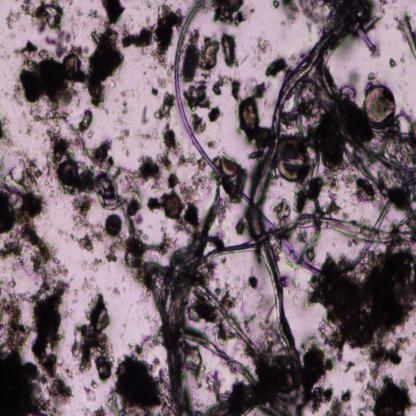Background material: (73, 171, 169, 321), (306, 251, 416, 356), (0, 275, 72, 413), (0, 145, 70, 277), (150, 267, 245, 349), (220, 340, 306, 411), (183, 32, 245, 130), (68, 295, 120, 382), (106, 348, 174, 414), (299, 343, 353, 414), (15, 60, 78, 118), (122, 6, 183, 64), (123, 127, 179, 185), (83, 28, 123, 109), (62, 190, 104, 256), (356, 368, 416, 413), (34, 110, 79, 169), (235, 87, 270, 157), (176, 156, 212, 199), (80, 138, 121, 174), (20, 0, 64, 31), (210, 0, 255, 29), (114, 94, 134, 140), (258, 51, 290, 78), (43, 28, 71, 58), (81, 256, 104, 290), (151, 93, 178, 121), (100, 0, 126, 29), (150, 62, 172, 94), (102, 236, 127, 264), (252, 37, 272, 67), (0, 113, 15, 150), (5, 7, 25, 34), (14, 38, 37, 60), (76, 6, 102, 23), (75, 109, 93, 133), (384, 53, 399, 71), (246, 272, 260, 290)
Cellulose filter fibre: (246, 18, 348, 377), (181, 324, 253, 384)
Diatom: (277, 138, 311, 185), (364, 83, 398, 127), (399, 14, 416, 58), (57, 158, 79, 187), (163, 194, 182, 221), (276, 369, 294, 396), (62, 50, 82, 74), (357, 27, 374, 53), (104, 214, 122, 237), (218, 156, 239, 175)
Microfibre: (174, 0, 398, 279)
